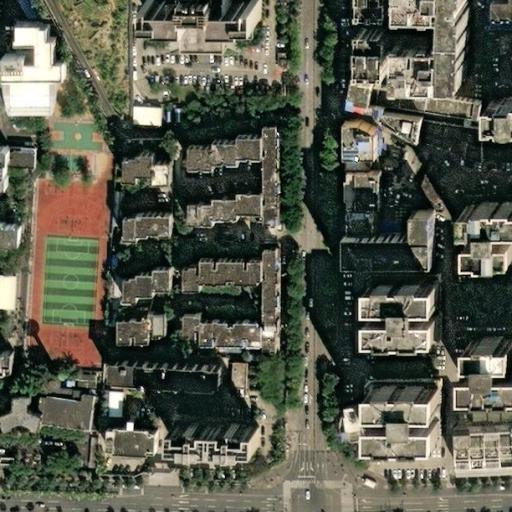building: (349, 381, 446, 449), (418, 0, 486, 81), (342, 213, 433, 267), (337, 76, 454, 118), (374, 390, 447, 449), (379, 281, 449, 336), (141, 0, 270, 26), (0, 24, 57, 82), (103, 360, 217, 387), (190, 320, 272, 355), (166, 424, 258, 455), (463, 206, 512, 261), (462, 343, 512, 395), (177, 128, 252, 162), (460, 423, 512, 472), (181, 187, 255, 221), (193, 267, 272, 298), (179, 18, 236, 57), (399, 113, 458, 150), (95, 421, 146, 456), (266, 128, 282, 232), (359, 33, 392, 83), (340, 172, 367, 233), (113, 265, 160, 300), (0, 144, 35, 190), (116, 156, 164, 188), (354, 105, 407, 131), (266, 253, 282, 331), (119, 216, 164, 240), (120, 324, 151, 349), (146, 26, 179, 45), (0, 270, 16, 309), (343, 124, 361, 156), (0, 219, 19, 248), (359, 0, 391, 17), (124, 108, 154, 126), (8, 0, 36, 19), (235, 25, 263, 44), (370, 281, 379, 336), (101, 393, 118, 420), (225, 364, 240, 394), (496, 103, 512, 129), (0, 348, 14, 377), (155, 319, 169, 340), (376, 145, 390, 154)
